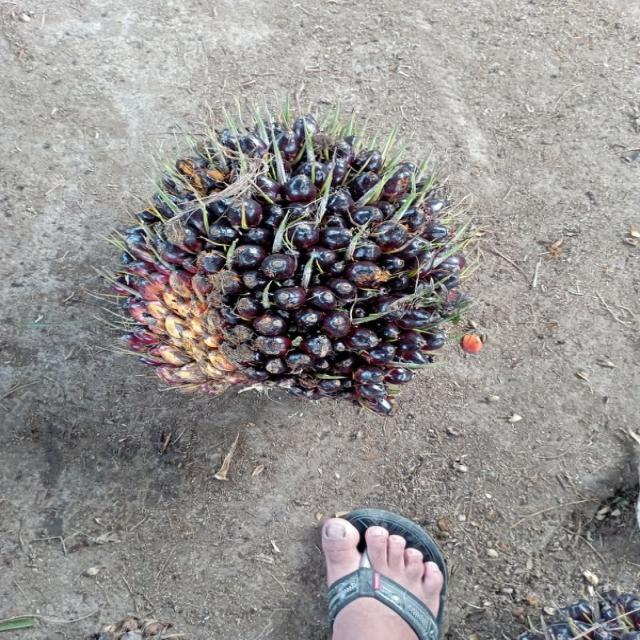fraksi 00: (106, 69, 488, 440)
